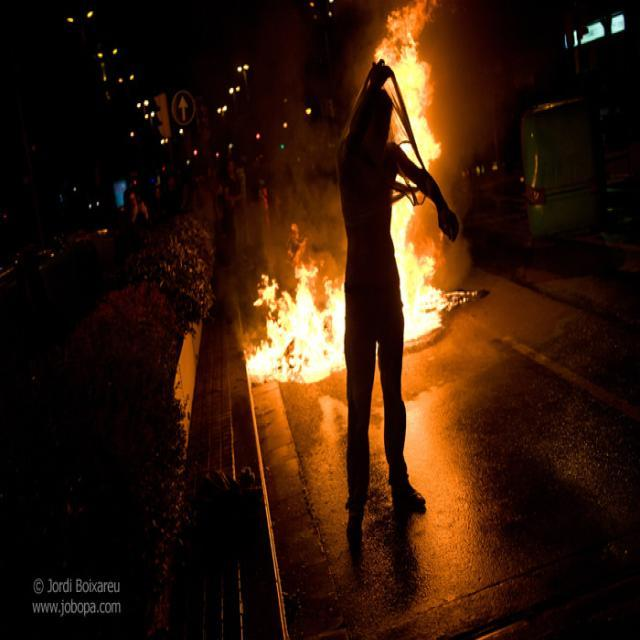Fire: (278, 304, 342, 374), (401, 252, 432, 338), (399, 44, 426, 136)
